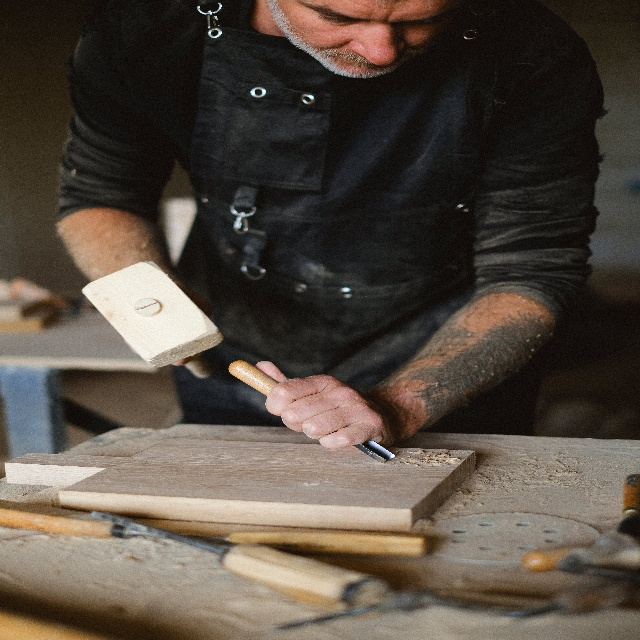Sin_guantes: (262, 364, 398, 460)
